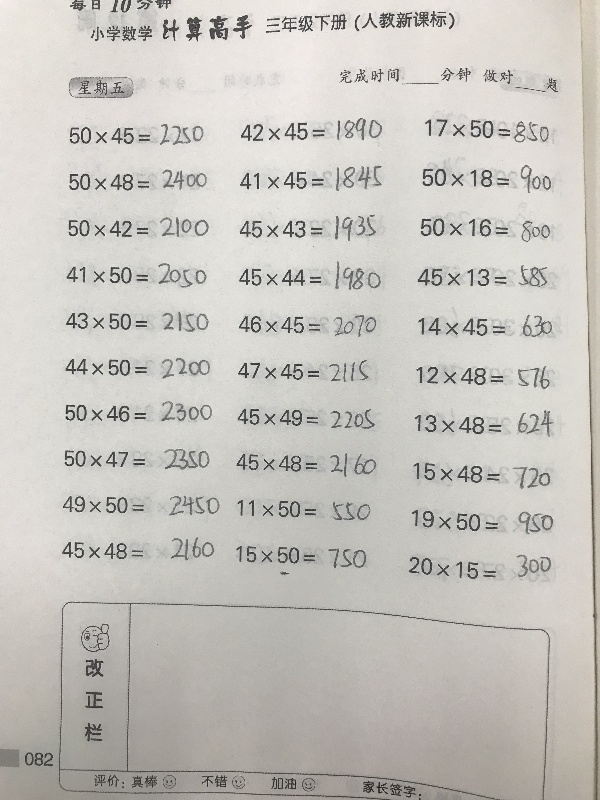equation: (235, 213, 379, 252), (59, 488, 220, 521), (58, 533, 215, 565), (61, 442, 211, 475), (419, 161, 555, 197), (405, 548, 553, 581), (408, 506, 558, 538), (63, 257, 210, 289), (232, 538, 370, 572), (236, 165, 386, 196), (66, 163, 209, 195), (62, 306, 209, 337), (411, 405, 553, 437), (412, 362, 552, 394), (236, 114, 385, 144), (61, 396, 213, 425), (61, 352, 213, 381), (236, 311, 381, 341), (409, 461, 553, 491), (234, 495, 373, 526), (65, 212, 212, 241), (414, 310, 558, 339), (416, 214, 554, 244), (66, 120, 208, 149), (413, 260, 550, 290), (232, 450, 378, 478), (234, 405, 379, 433), (234, 357, 371, 386), (421, 116, 552, 145), (236, 265, 325, 290)
